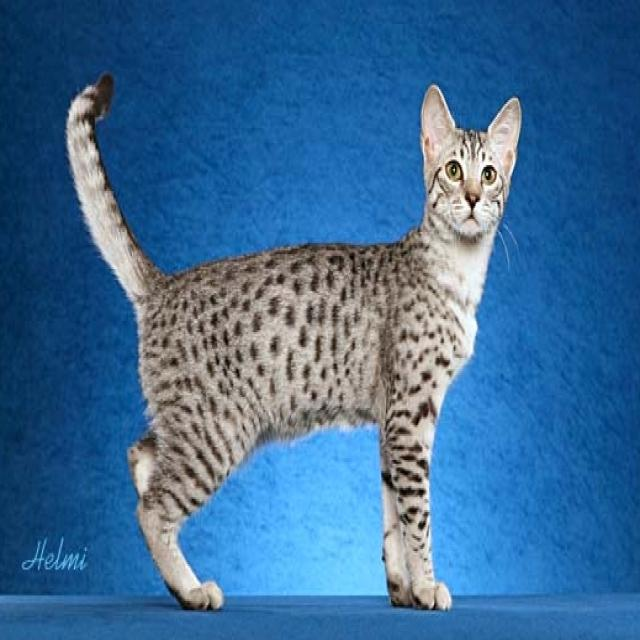Egyptian Mau: (62, 72, 524, 621)
